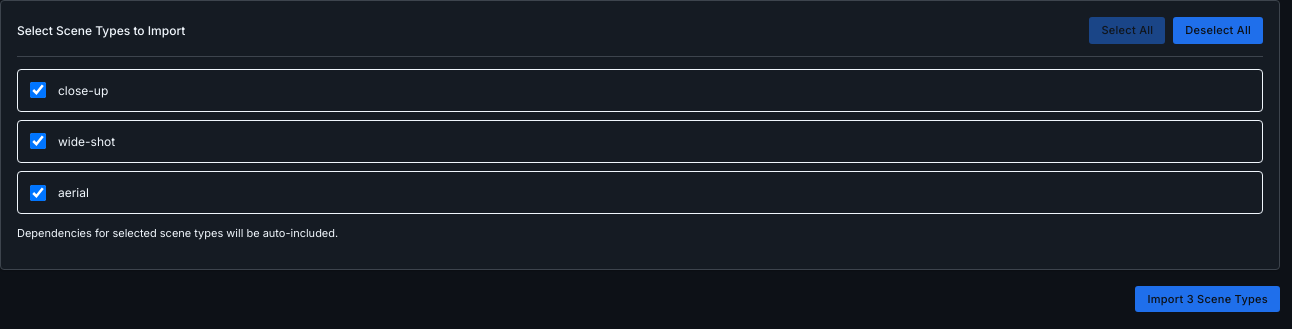
it: SelectiveImport › select all re-checks all checkboxes after deselect
# First deselect all
Click the button with test id "deselect-all-btn".
click(1218, 30)  # box [1173,17,1263,44]
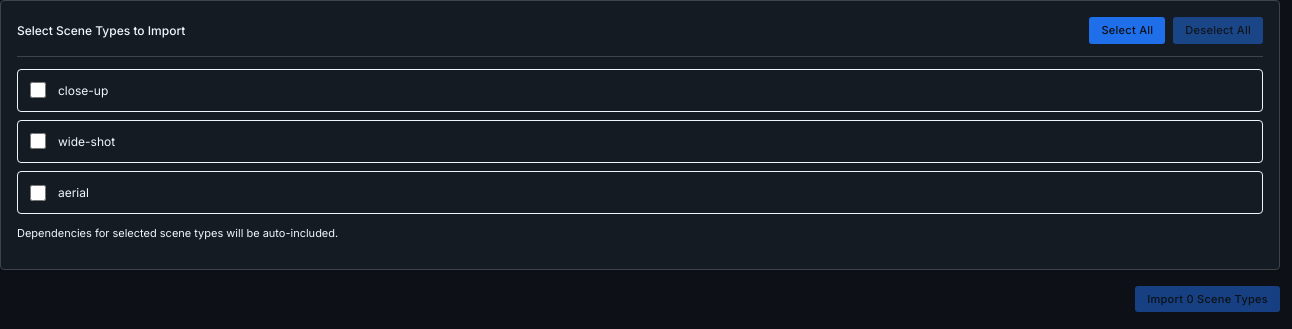
# Then select all
Click the button with test id "select-all-btn".
click(1127, 30)  # box [1089,17,1165,44]
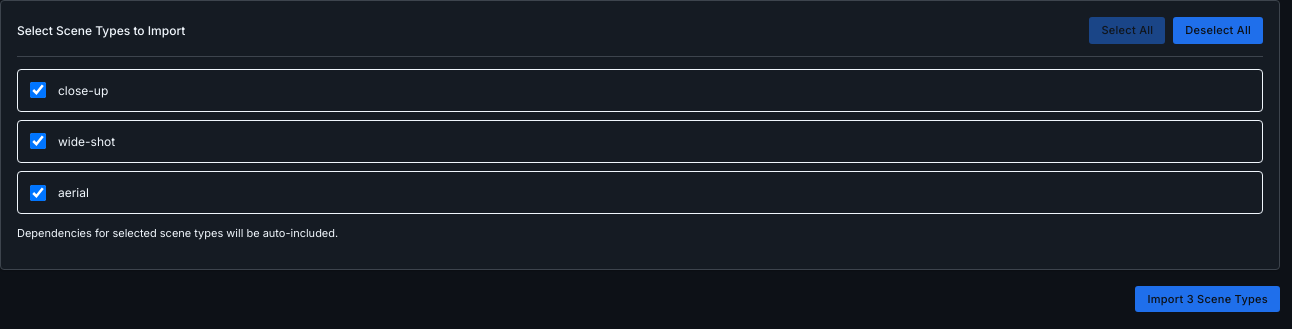
Expected: the checkbox labelled "close-up" is checked, [30,82,46,98]
Expected: the checkbox labelled "wide-shot" is checked, [30,133,46,149]
Expected: the checkbox labelled "aerial" is checked, [30,184,46,200]
